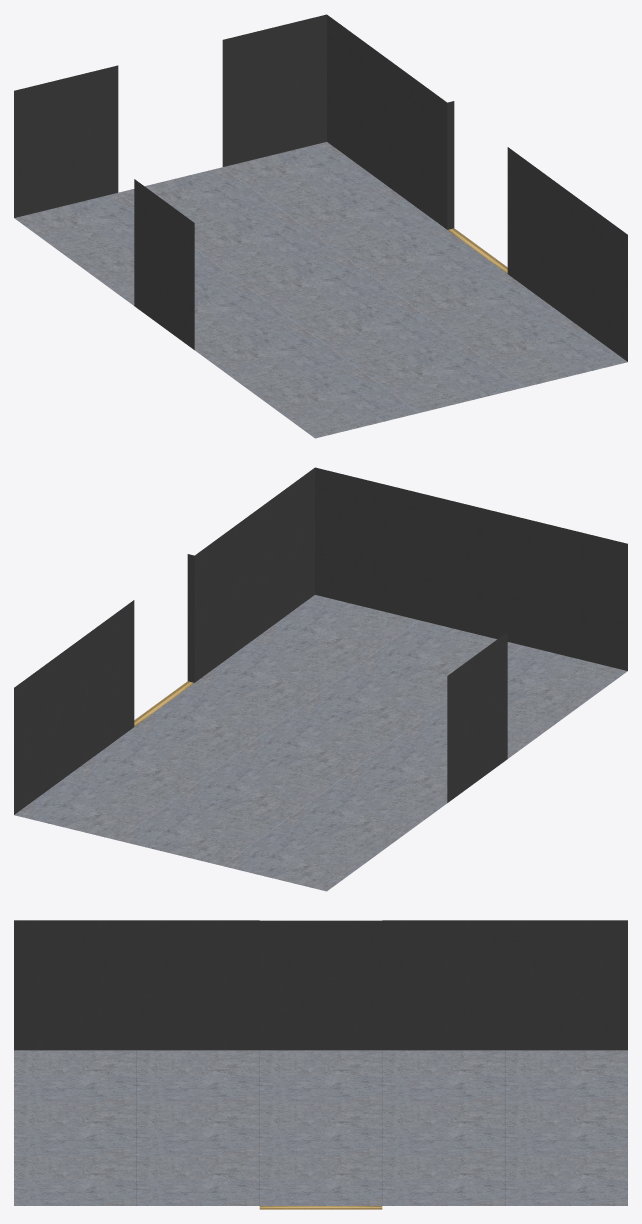
File: west-room.glb
3 renders of one model, top to bottom at view 1: azimuth 30°, elevation 25°; view 2: azimuth 150°, elevation 25°; view 3: azimuth 270°, elevation 25°, orthographic.
Parts seen in each view (by area): view 1: HallWest_Floor, HallWest_Walls; view 2: HallWest_Floor, HallWest_Walls; view 3: HallWest_Floor, HallWest_Walls.
Boxes of the visible parts, left/top/right/bottom form: HallWest_Floor: left=14, top=142, right=627, bottom=438; HallWest_Walls: left=14, top=14, right=627, bottom=361; HallWest_Floor: left=14, top=595, right=627, bottom=891; HallWest_Walls: left=14, top=467, right=627, bottom=814; HallWest_Floor: left=14, top=1050, right=627, bottom=1209; HallWest_Walls: left=14, top=920, right=627, bottom=1050.
Bounding box in the file's own units: 9.2 × 3.5 × 15.
Materials: 1 (1 with a texture image).
